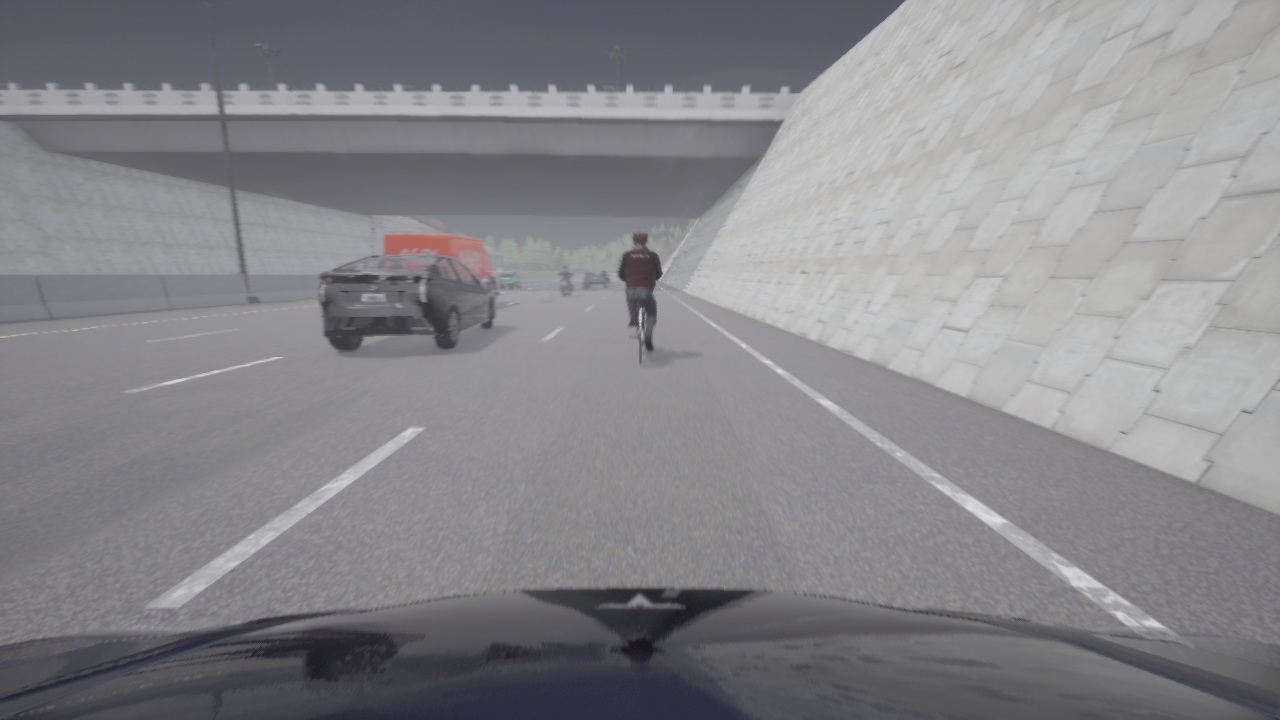cyclist: (0, 588, 1279, 719), (319, 255, 495, 350), (383, 234, 500, 299), (630, 302, 652, 363), (583, 269, 609, 288), (500, 271, 519, 288), (559, 275, 570, 296)
